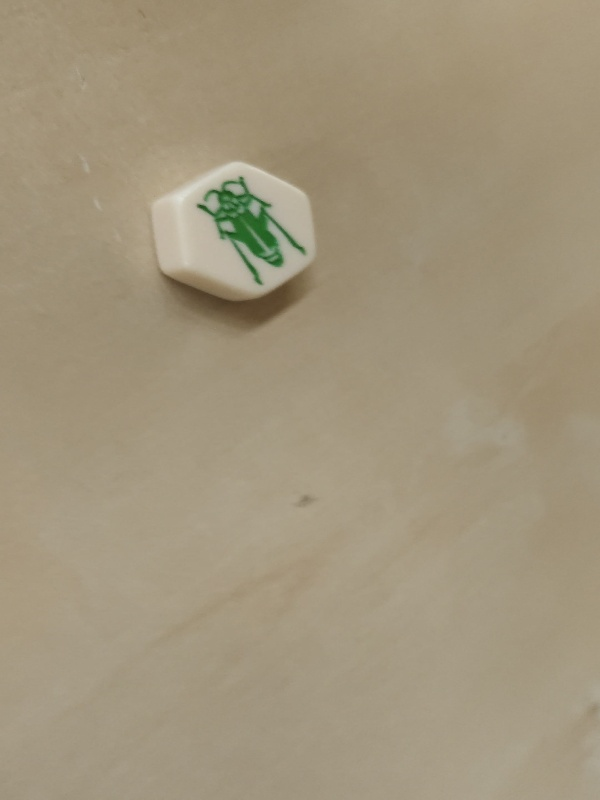white_grasshopper: (145, 149, 324, 309)
